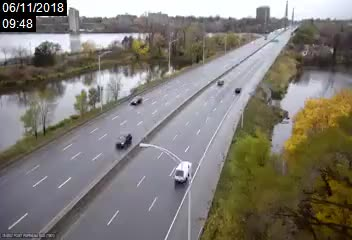personal_car: (173, 161, 192, 183), (112, 132, 135, 150), (129, 94, 142, 107), (214, 77, 225, 87), (233, 86, 242, 94)
